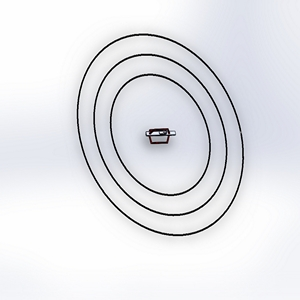circle: (74, 29, 247, 238)
submarine: (143, 119, 176, 147)
